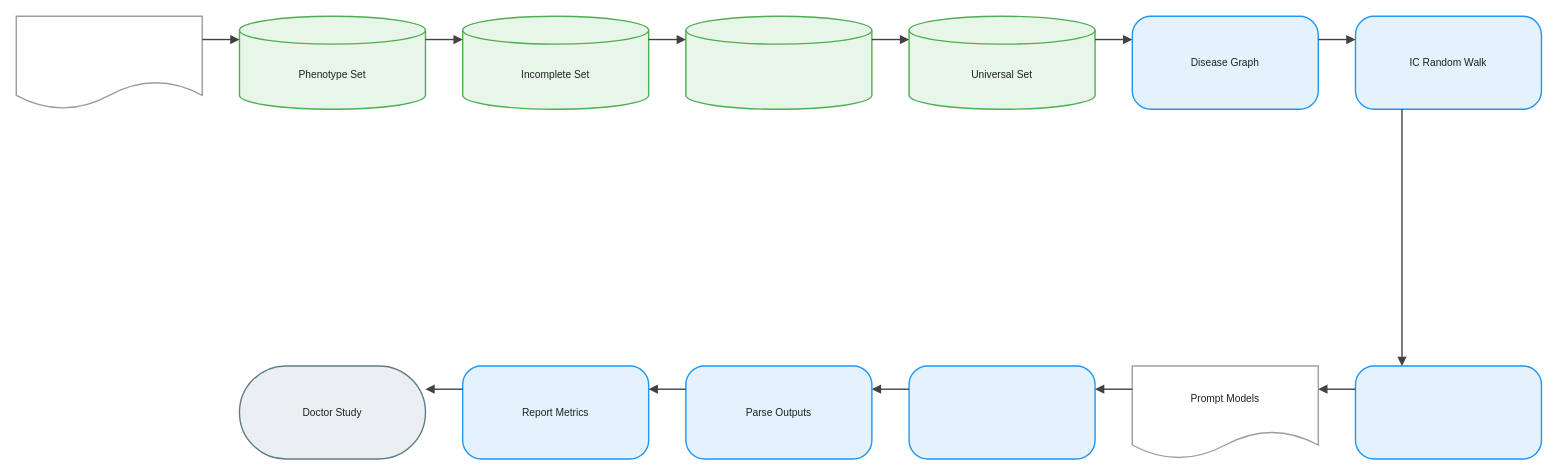
The diagram is 1559 pixels wide and 476 high, and some of its shapes have lost their labels. Each missing label, with the box of its shape:
Few-Shot Test: (908, 365, 1095, 459)
Patient Data: (15, 15, 203, 110)
Rare vs Common: (685, 15, 872, 110)
Retrieve Shots: (1354, 365, 1542, 459)
